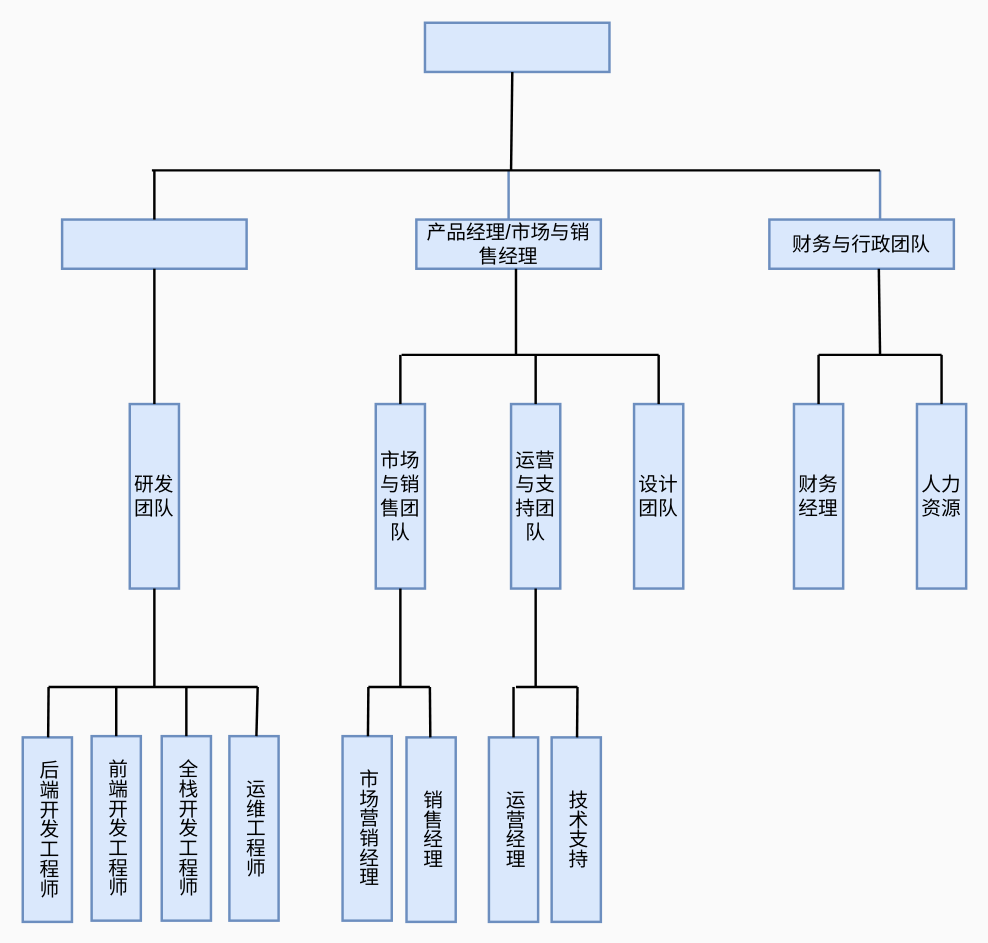
Image size: 988x943. Some labels were removed from this diagram. Each missing label, with the centre of its shape:
CEO: the point at 516,47
CTO: the point at 153,243
